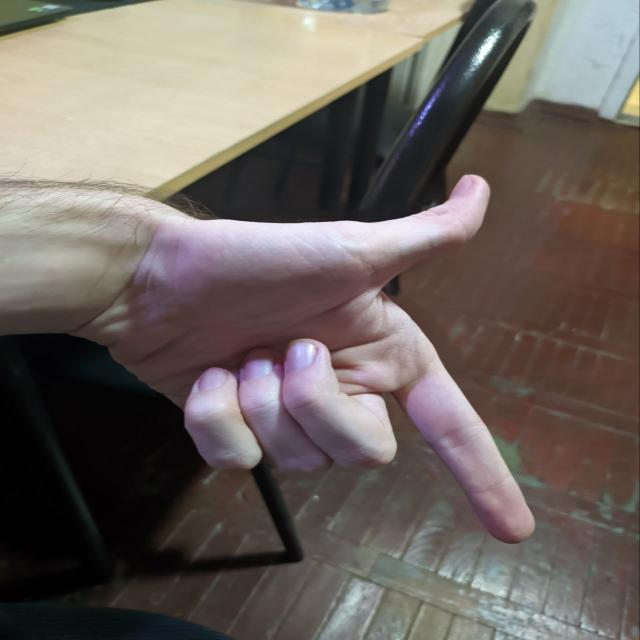g: (108, 180, 548, 562)
